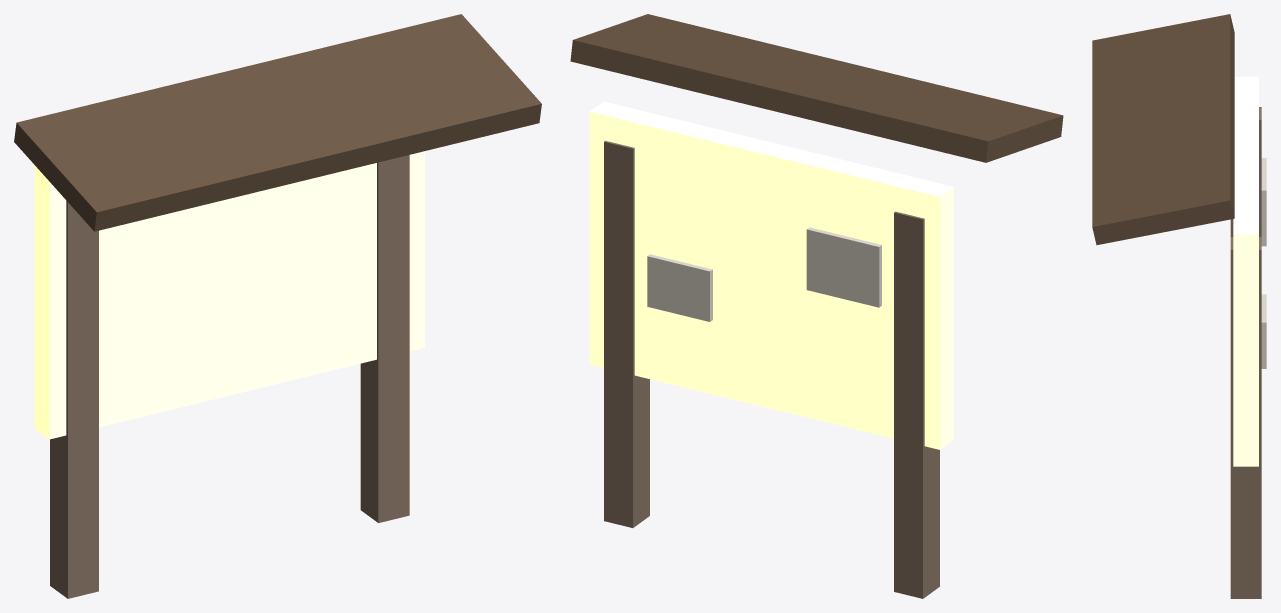
File: jobBoard.glb
3 renders of one model, left to right at view 1: azimuth 30°, elevation 25°; view 2: azimuth 150°, elevation 25°; view 3: azimuth 270°, elevation 25°, orthographic. The views are drawn at different scales.
Parts seen in each view (by area): view 1: jobBoard; view 2: jobBoard; view 3: jobBoard.
Part boxes in pixels (box(x1,y1,x2,y2)): jobBoard: box(14, 14, 541, 598); jobBoard: box(570, 14, 1063, 598); jobBoard: box(1092, 14, 1266, 598).
Bounding box in the file's own units: 1.72 × 1.81 × 0.6799.
